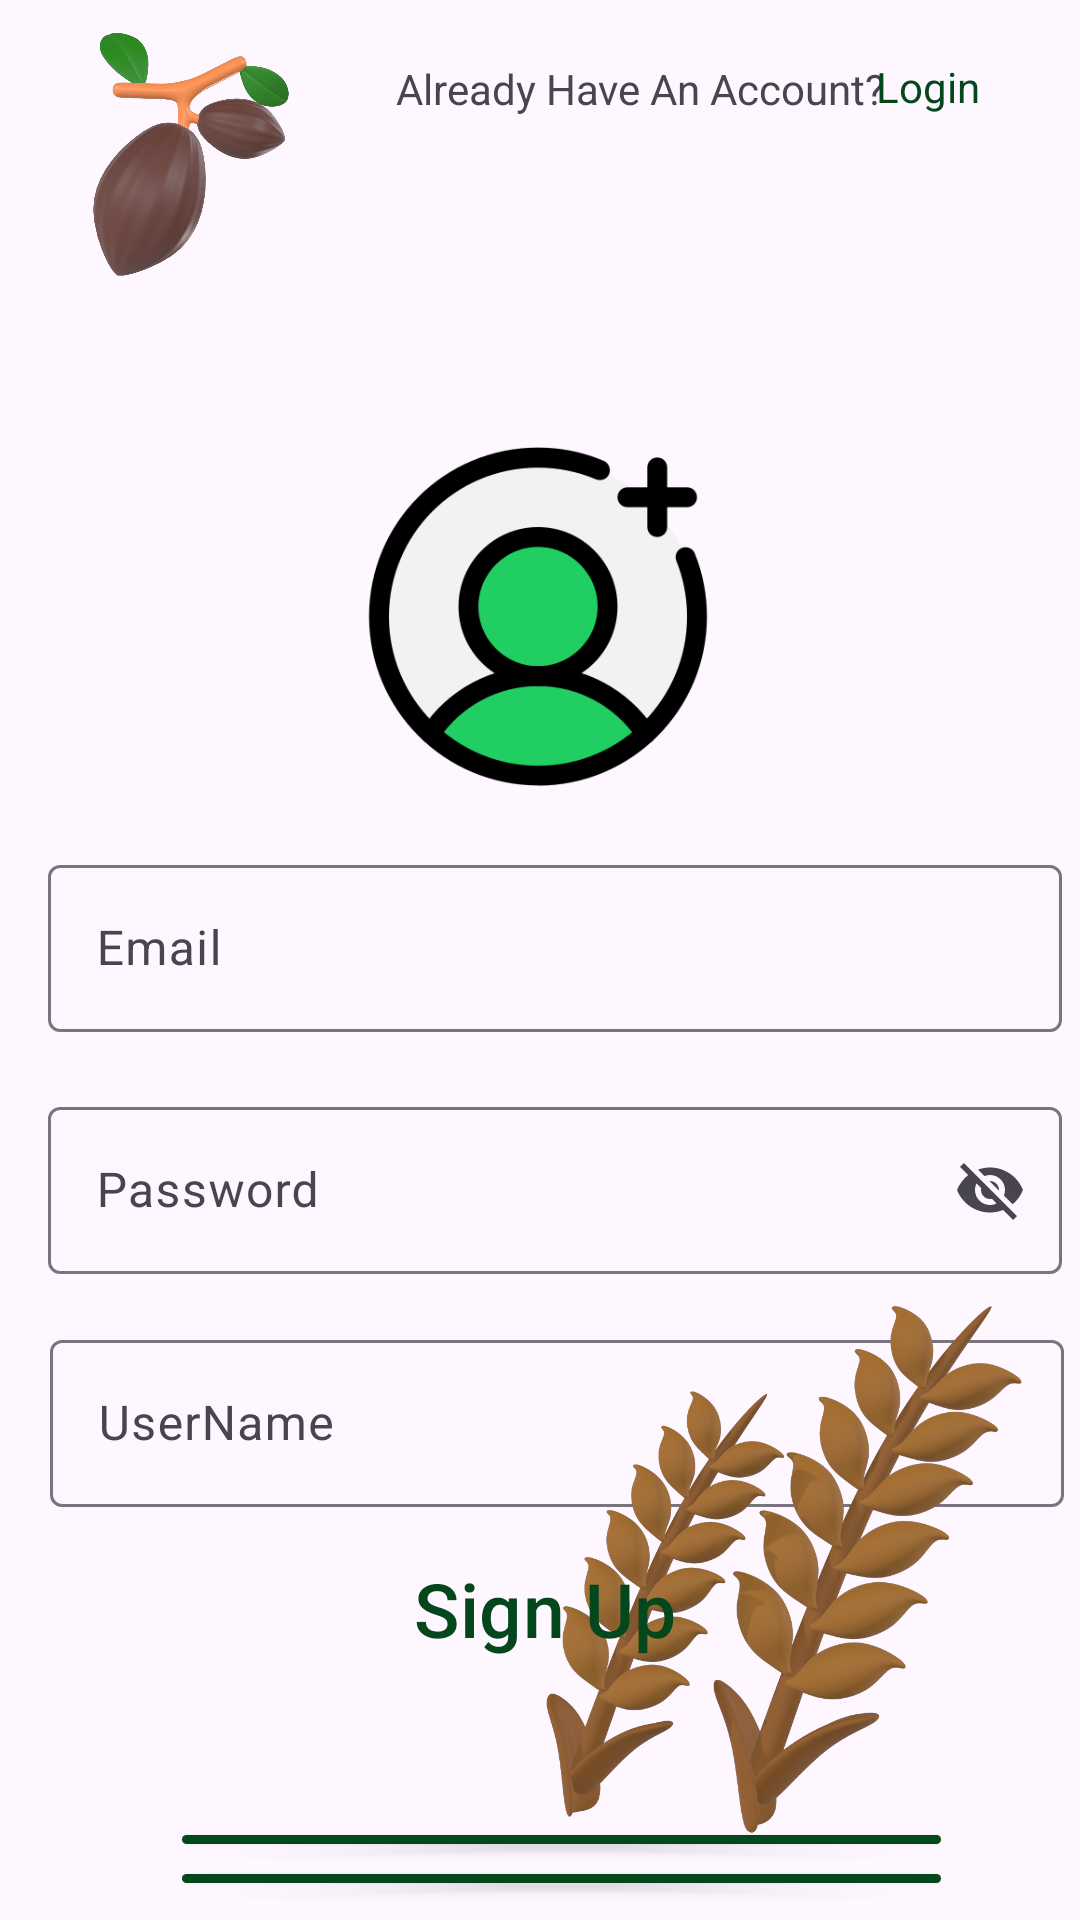

Named icons in this screenshot (1080px×1920px) and their bounding boxes, (x1, y1, x2, y2):
coco: (93, 33, 289, 276)
profile: (368, 447, 708, 786)
